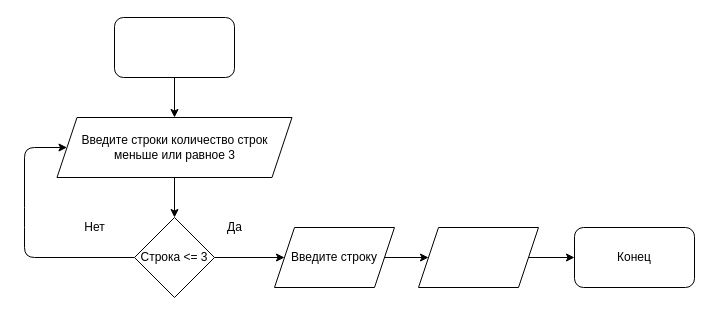
Some shapes in this 712 by 315 pixel diagram are drawn without their labels. Each missing label, with the box of its shape:
Вывод строки: (418, 226, 538, 288)
Начало: (114, 16, 234, 78)
